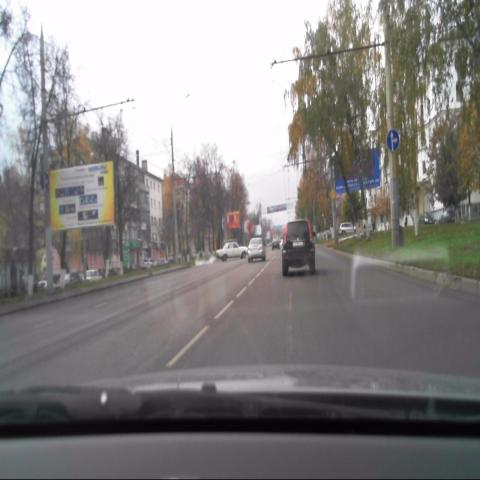4_1_4: (386, 128, 400, 153), (38, 171, 50, 191)
